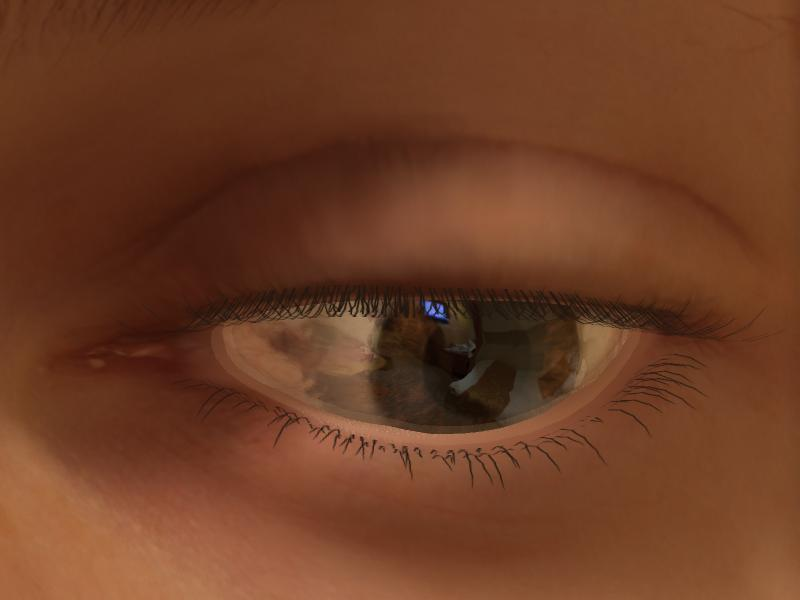eye: (370, 294, 584, 432)
